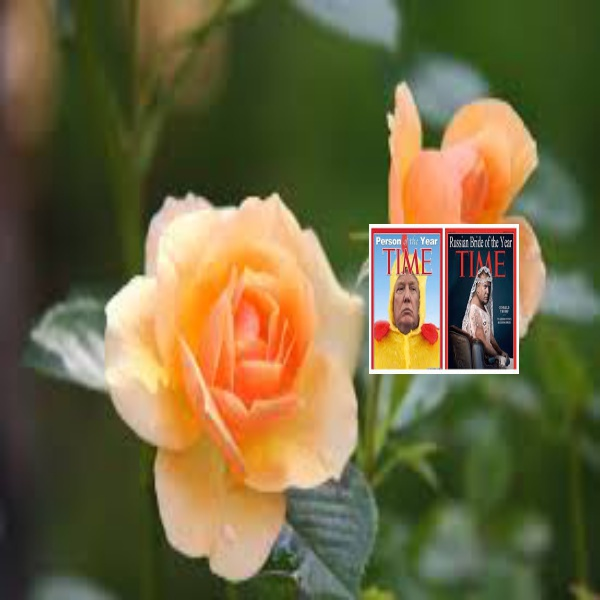time_cover: (370, 222, 442, 362), (460, 224, 520, 373)
